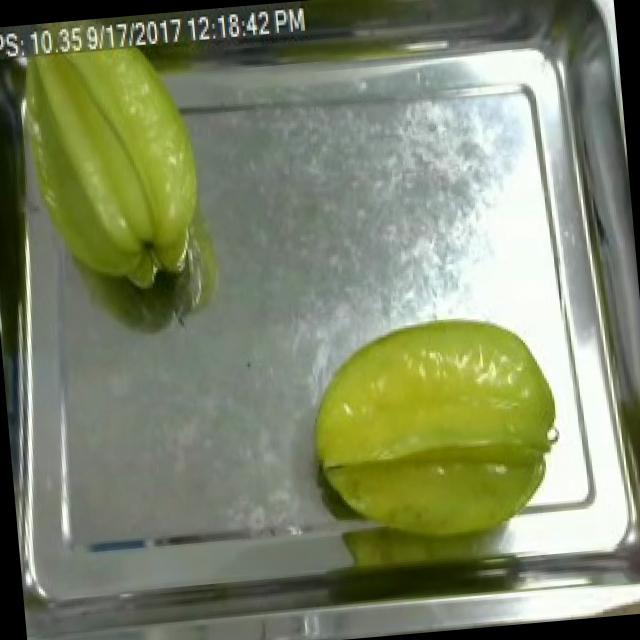fruit: (290, 302, 574, 564), (0, 42, 221, 307)
